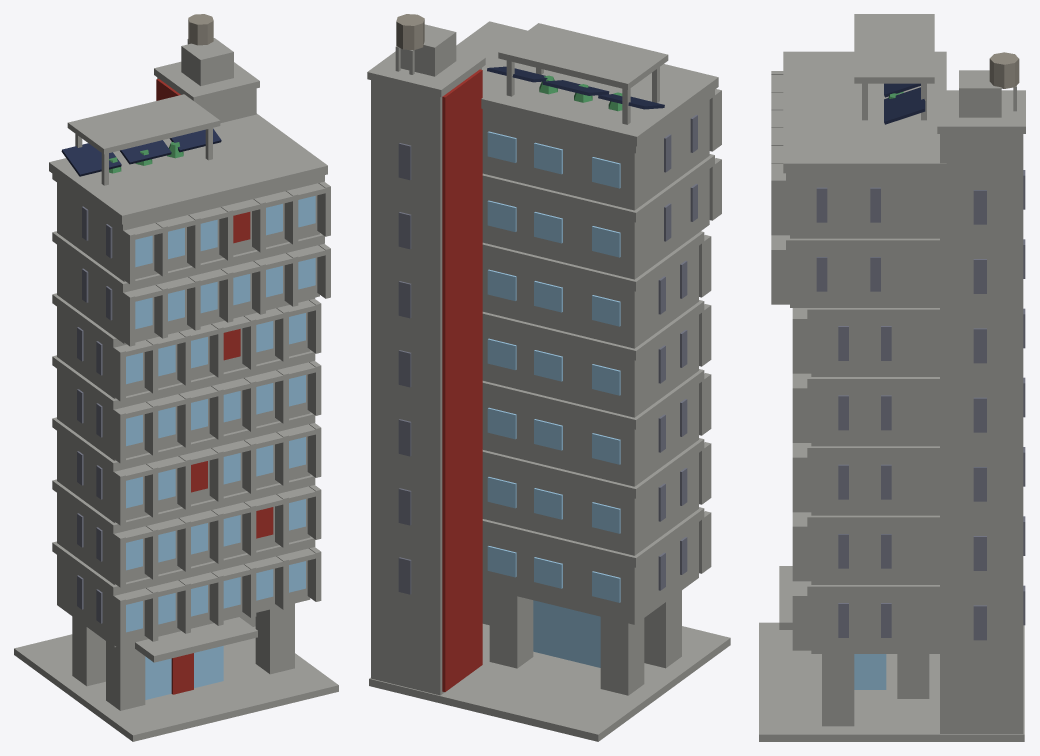
File: tower-1x1-8f-brutalist-a-solar.glb
3 renders of one model, left to right at view 1: azimuth 30°, elevation 25°; view 2: azimuth 150°, elevation 25°; view 3: azimuth 270°, elevation 25°, orthographic. The views are drawn at different scales.
Parts seen in each view (by area): view 1: tower-1x1-8f-brutalist-a-solar; view 2: tower-1x1-8f-brutalist-a-solar; view 3: tower-1x1-8f-brutalist-a-solar.
Boxes of the visible parts, x1,y1,x2,y2 form: tower-1x1-8f-brutalist-a-solar: [14, 14, 338, 741]; tower-1x1-8f-brutalist-a-solar: [367, 14, 730, 741]; tower-1x1-8f-brutalist-a-solar: [759, 14, 1025, 741].
Bounding box in the file's own units: 0.995 × 2.75 × 0.995.
Materials: 1 (1 with a texture image).
